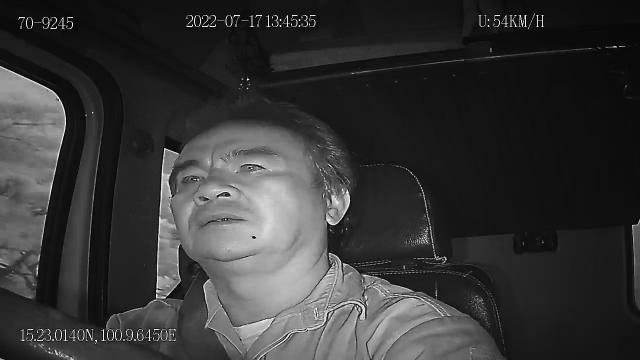SafeDriving: (230, 150, 278, 180), (173, 164, 212, 192)
Seatbelt: (175, 268, 232, 360)
